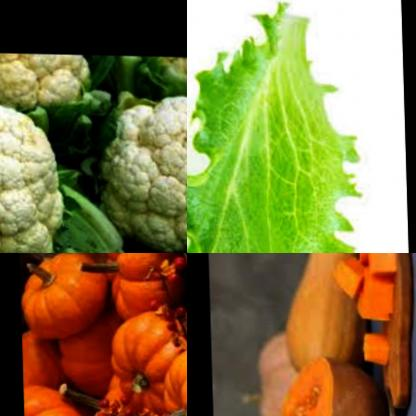cayliflower: (86, 91, 187, 250), (0, 85, 64, 253), (0, 50, 108, 113), (142, 54, 187, 86)
pumpkin: (275, 253, 371, 366), (103, 306, 187, 416), (16, 253, 107, 341), (267, 353, 391, 416), (55, 307, 120, 400), (96, 253, 183, 319), (251, 320, 308, 416), (331, 253, 392, 321), (19, 324, 70, 401), (20, 377, 94, 416), (359, 326, 391, 367)
salad: (187, 0, 383, 253)
